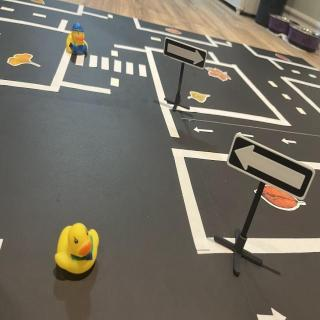duck_regular: (55, 225, 101, 279)
duck_specialty: (66, 22, 90, 56)
road_crosswalk: (74, 53, 150, 81)
sign_oneway_left: (228, 138, 316, 202)
sign_oneway_right: (162, 35, 210, 70)
